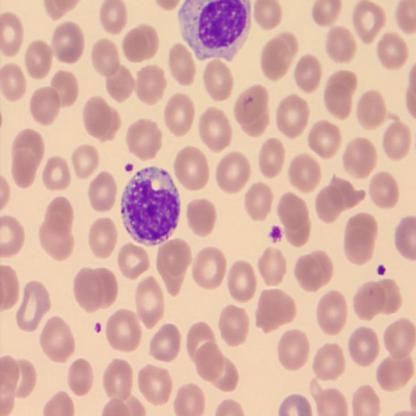Metamyelocyte: (119, 164, 183, 249)
